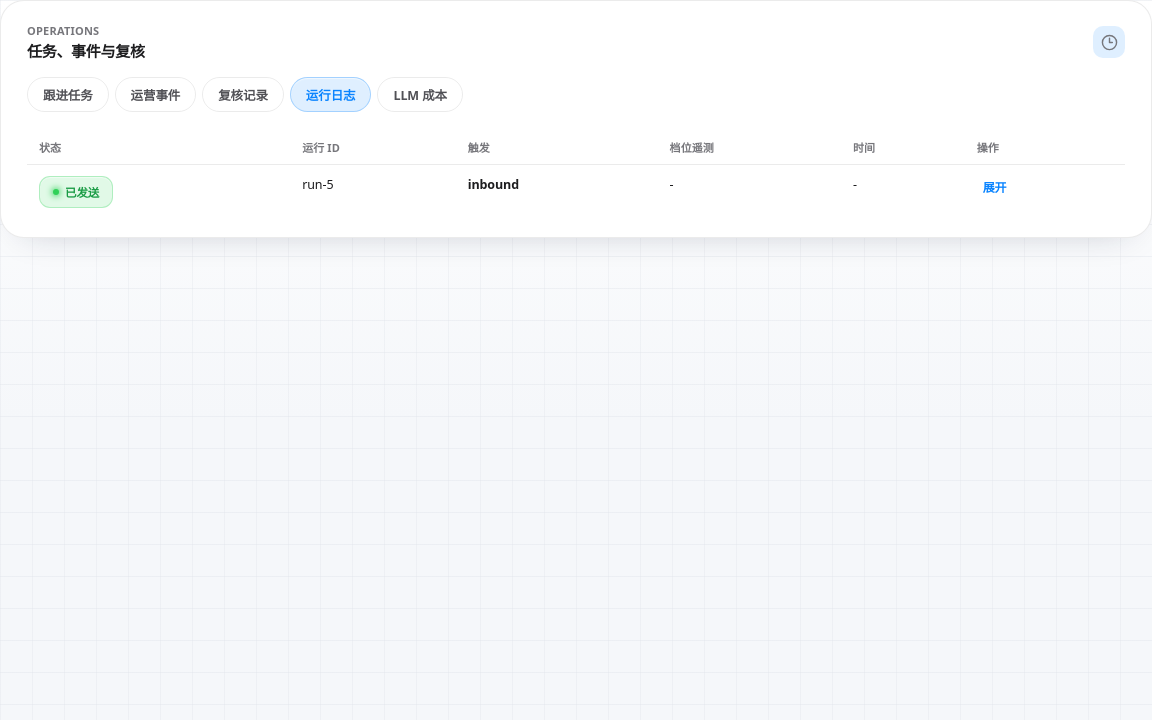
Scenario: 运行日志 runs tab + tier 遥测(C6+C9) › 阶段明细表格挂 stageTable 类（固定布局 + 断词）
Click the button "展开" at (995, 187), box [977, 176, 1012, 198]
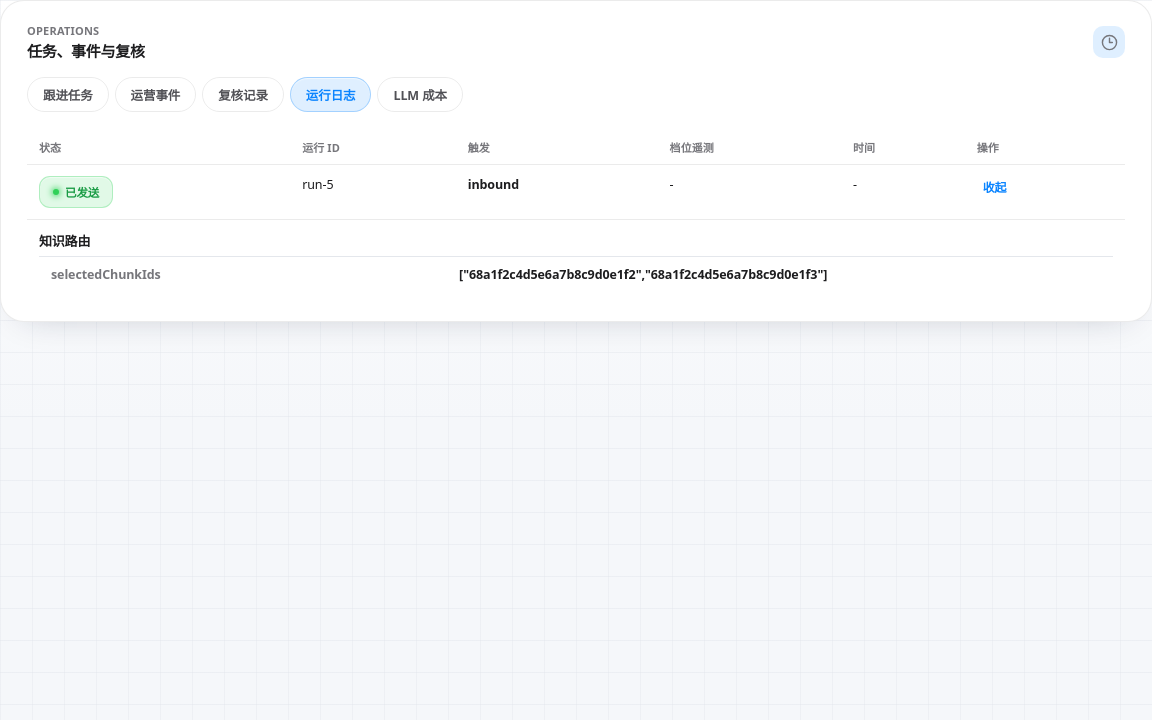
Check: the table is shown, box [39, 256, 1113, 292]
